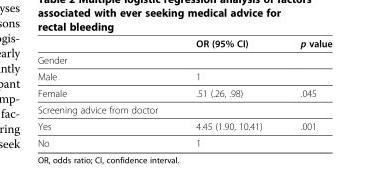table: (36, 37, 331, 148)
table column: (36, 37, 176, 148), (176, 37, 280, 148), (280, 37, 331, 148)
table column header: (36, 37, 331, 51)
table projected row header: (36, 51, 331, 67), (36, 101, 331, 117)
table row: (36, 67, 331, 84), (36, 84, 331, 101), (36, 117, 331, 134), (36, 51, 331, 67), (36, 101, 331, 117), (36, 37, 331, 51), (36, 134, 331, 148)
